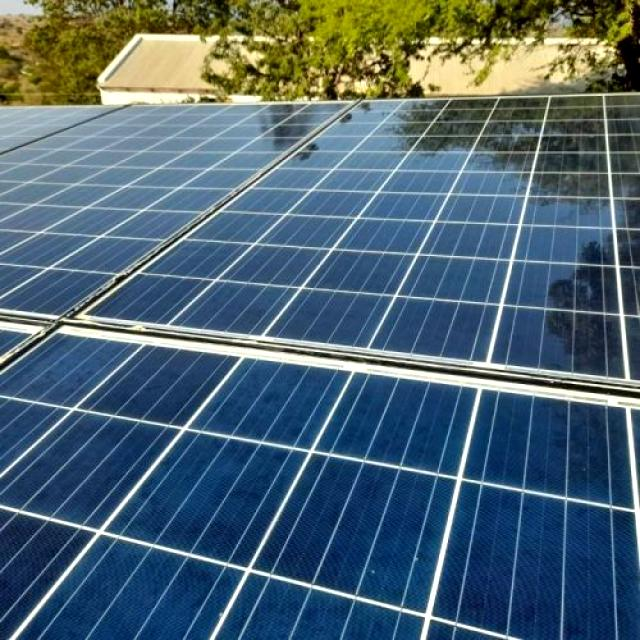crack: (245, 416, 488, 622), (91, 398, 306, 578), (290, 350, 488, 490), (442, 360, 640, 500), (77, 228, 313, 340), (4, 391, 178, 531), (181, 333, 362, 453), (358, 282, 534, 366), (474, 243, 640, 324), (115, 324, 234, 436), (0, 322, 142, 408), (290, 230, 444, 308), (390, 245, 552, 319), (0, 245, 118, 334), (421, 176, 561, 242), (505, 180, 640, 247), (218, 226, 337, 298)
